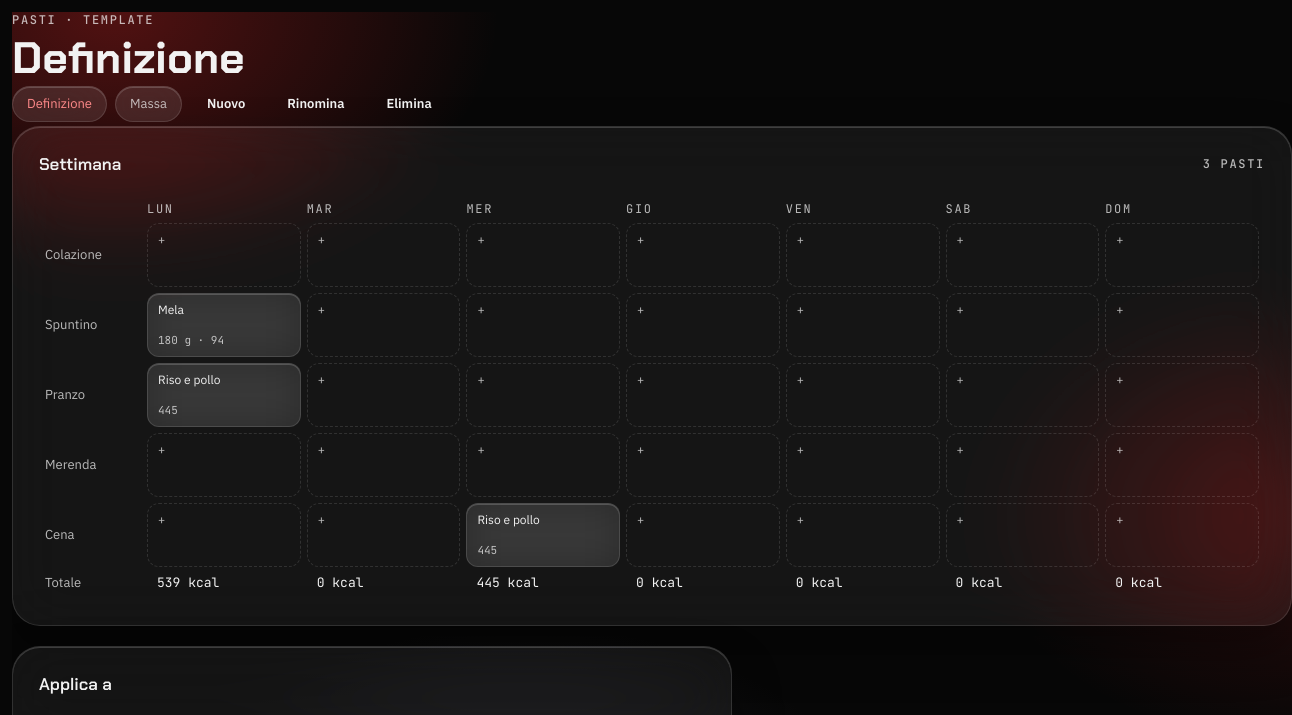
Test case: TemplatesPage (NUT-010) › cambia template
The image size is (1292, 715).
Click the button "Massa" at (148, 104), box left=115, top=86, right=182, bottom=122
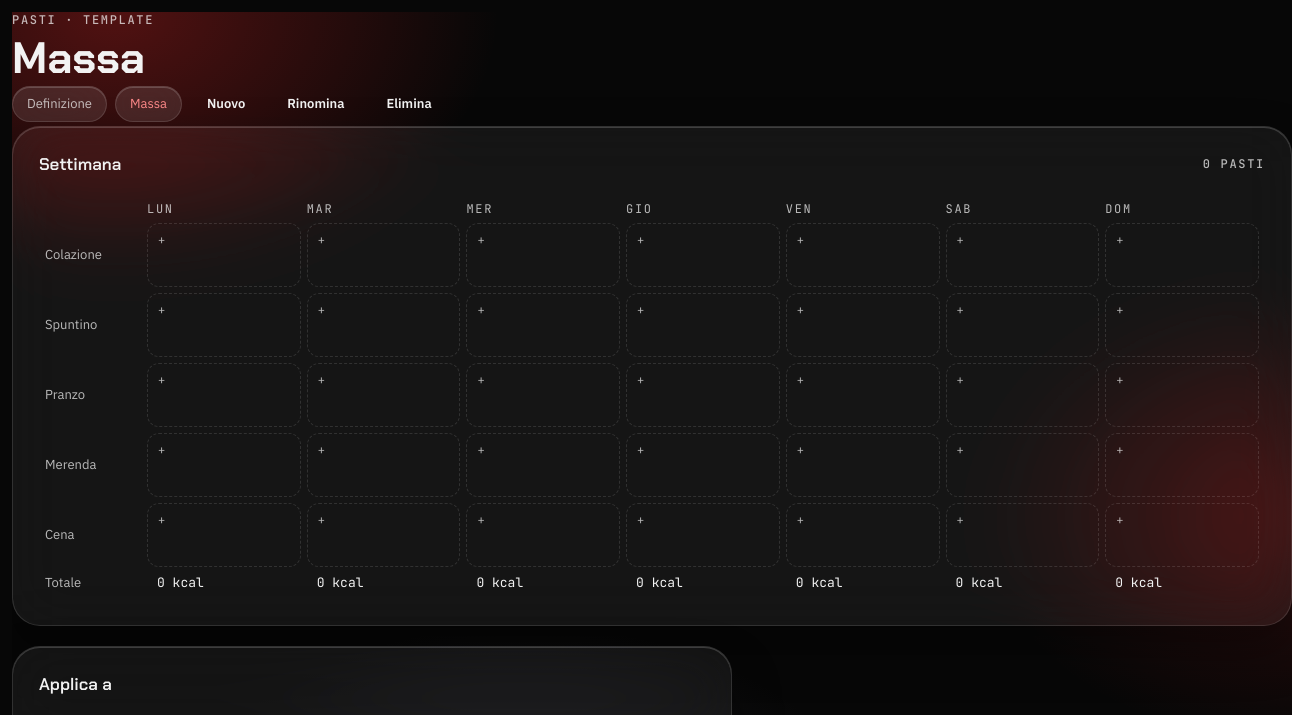
Now the heading "Massa" is shown, box left=12, top=29, right=145, bottom=87
